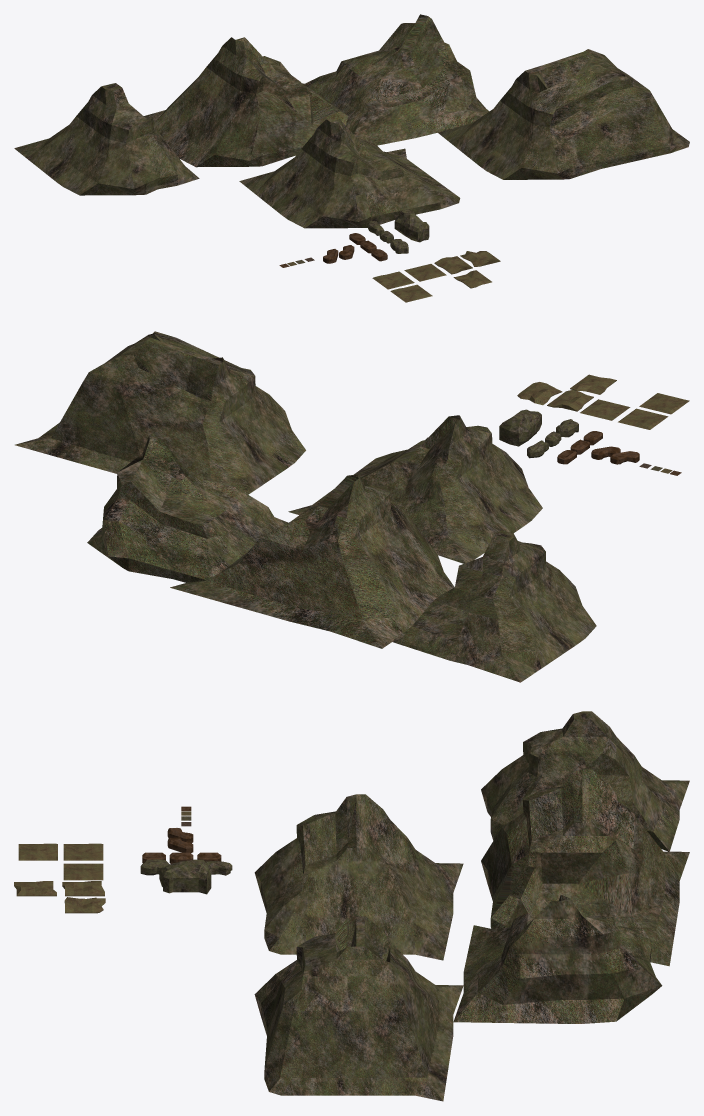
The model's file is rocksandother.fbx.
The picture shows the model from 3 angles, top to bottom: view 1: azimuth 30°, elevation 25°; view 2: azimuth 150°, elevation 25°; view 3: azimuth 270°, elevation 25°; orthographic projection. The views are drawn at different scales.
Visible parts, largest first — view 1: Mountain3, Mountain2, Mountain1, Mountain4, rock4, grass5, grass6; view 2: Mountain3, Mountain2, Mountain4, Mountain1, rock4, grass6, grass4, grass5, grass3, grass, grass2; view 3: Mountain3, Mountain2, Mountain1, Mountain4, rock4, grass4, grass5, grass6, grass3, grass2, grass.
Boxes of the visible parts, x1,y1,x2,y2 form: Mountain3: (144,14,489,167); Mountain2: (438,49,689,179); Mountain1: (239,119,460,228); Mountain4: (14,83,199,195); rock4: (394,209,429,242); grass5: (372,271,414,289); grass6: (390,284,432,302); Mountain3: (87,432,454,648); Mountain2: (15,331,305,494); Mountain4: (392,530,596,682); Mountain1: (288,415,542,563); rock4: (499,409,541,446); grass6: (639,393,689,414); grass4: (580,399,630,420); grass5: (618,408,668,429); grass3: (517,382,562,405); grass: (547,390,593,411); grass2: (570,374,616,394); Mountain3: (453,769,689,1023); Mountain2: (254,916,463,1101); Mountain1: (254,794,463,960); Mountain4: (481,711,689,851); rock4: (159,859,211,894); grass4: (63,863,103,880); grass5: (63,843,103,860); grass6: (18,843,57,860); grass3: (64,897,105,913); grass2: (14,881,56,896); grass: (62,881,104,896).
Bounding box in the file's own units: 23235 × 4075 × 20574.
4 materials, 4 textured.
